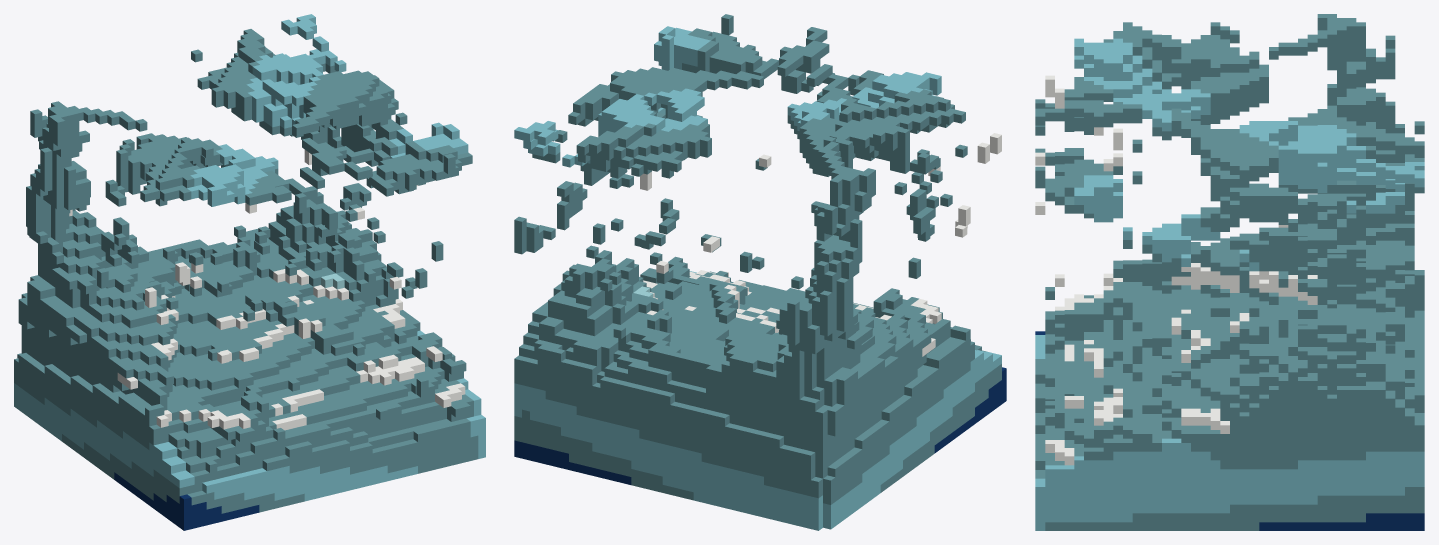
Rendered from shui.obj.
The picture shows the model from 3 angles, left to right: view 1: azimuth 30°, elevation 25°; view 2: azimuth 150°, elevation 25°; view 3: azimuth 270°, elevation 25°; orthographic projection. The views are drawn at different scales.
Parts seen in each view (by area): view 1: shui; view 2: shui; view 3: shui.
Boxes of the visible parts, <box> form: shui: <box>14,14,485,530</box>; shui: <box>514,14,1006,530</box>; shui: <box>1035,14,1424,530</box>.
Size of the model in its own units: 40 by 40 by 40.
Materials: 1 (1 with a texture image).
